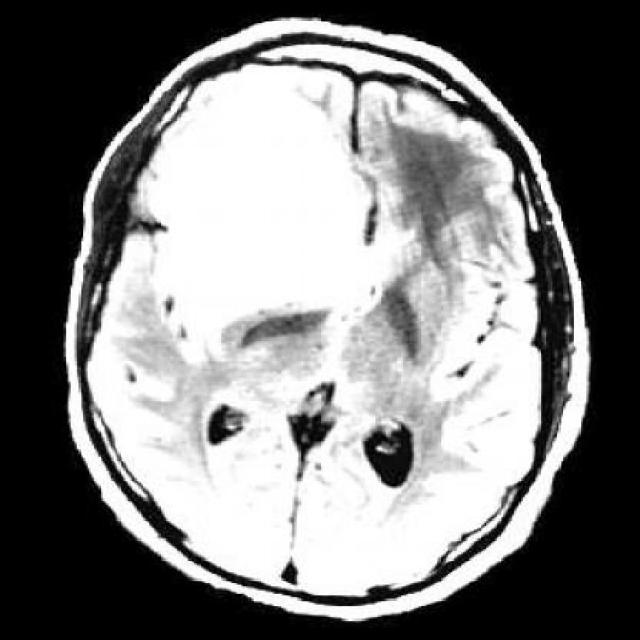Brain-Tumor: (115, 63, 412, 359)
